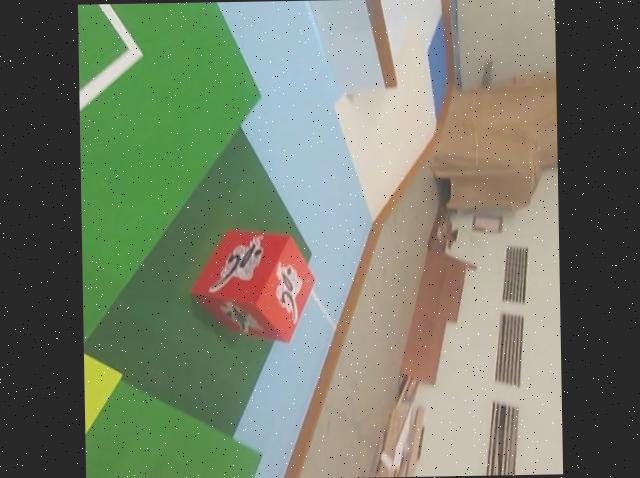R1: (184, 227, 317, 347)
